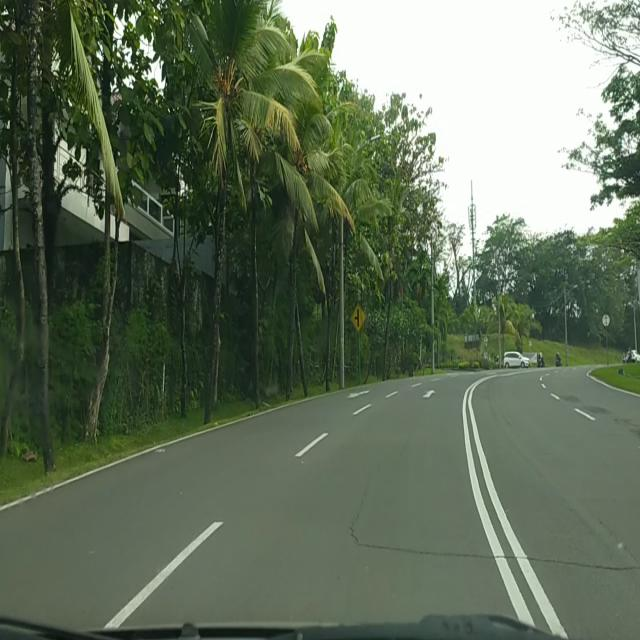Sewer Cover: (344, 514, 640, 570)
